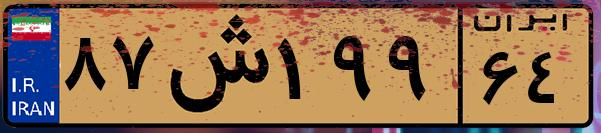1: (270, 28, 330, 110)
4: (525, 38, 570, 115)
6: (475, 38, 525, 113)
7: (110, 28, 158, 98)
8: (57, 26, 110, 100)
9: (385, 28, 445, 110), (330, 28, 385, 110)
ش: (158, 12, 270, 120)
